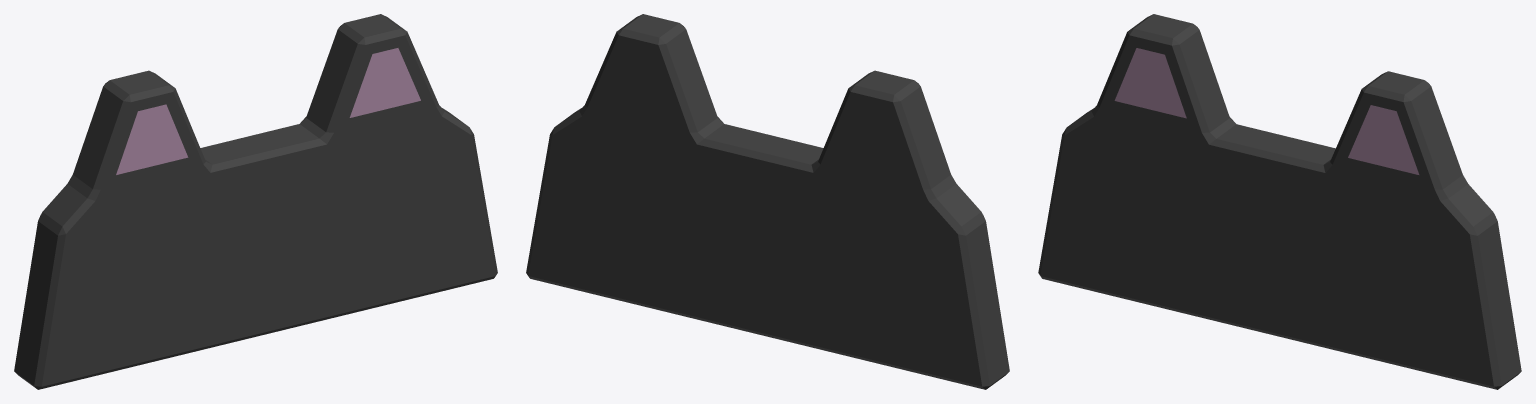
File: kittyHeadband.fbx
3 renders of one model, left to right at view 1: azimuth 30°, elevation 25°; view 2: azimuth 150°, elevation 25°; view 3: azimuth 330°, elevation 25°, orthographic.
Parts seen in each view (by area): view 1: Head - Kitty Headband; view 2: Head - Kitty Headband; view 3: Head - Kitty Headband.
Part boxes in pixels (bbox=[...]): Head - Kitty Headband: bbox=[14, 14, 497, 389]; Head - Kitty Headband: bbox=[526, 14, 1009, 389]; Head - Kitty Headband: bbox=[1038, 14, 1521, 389].
Bounding box in the file's own units: 72.94 × 6.97 × 40.99.
